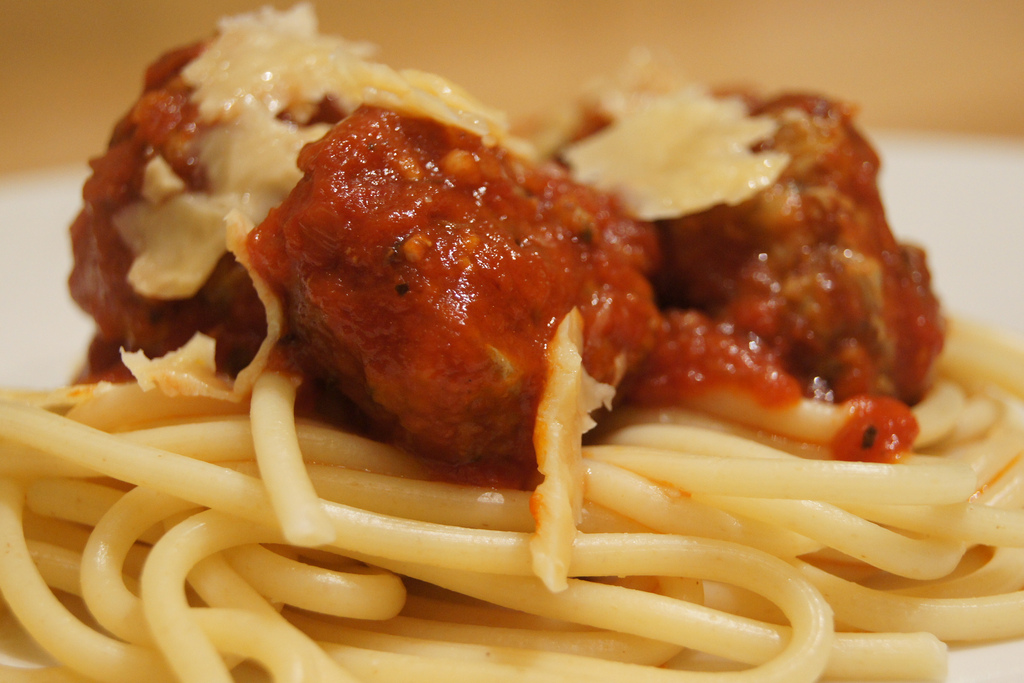meatballs: (268, 118, 661, 452)
plain spaghetti: (7, 385, 1018, 683)
